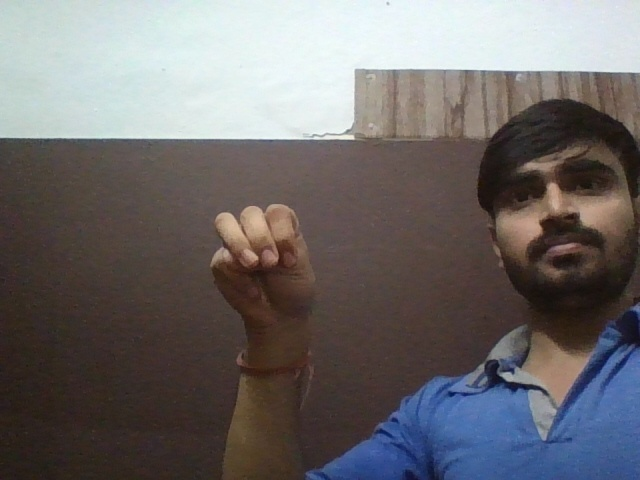M: (180, 204, 347, 327)
